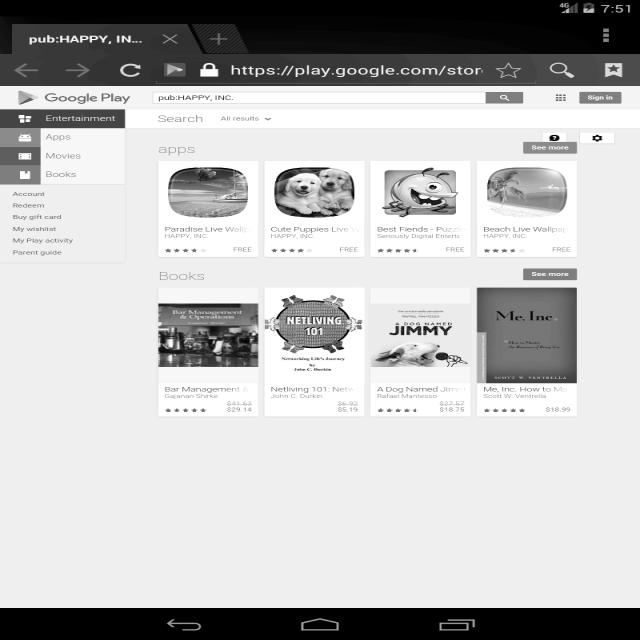Button: (515, 141, 576, 155), (577, 88, 624, 106)
ImageButton: (598, 56, 632, 86), (546, 59, 586, 81), (488, 60, 530, 80), (60, 59, 94, 79), (594, 26, 624, 48), (12, 62, 45, 81), (114, 61, 145, 78), (198, 62, 220, 76)
ImageView: (160, 300, 464, 366), (472, 289, 581, 379), (483, 167, 564, 215), (2, 87, 42, 183), (386, 168, 460, 216), (171, 164, 234, 214)
RatingBar: (476, 403, 534, 415), (160, 402, 210, 415), (160, 243, 210, 255), (476, 245, 533, 255), (374, 402, 421, 414), (377, 246, 429, 256)
TextView: (228, 64, 486, 80), (266, 381, 364, 401), (474, 222, 575, 240), (159, 224, 256, 237)
